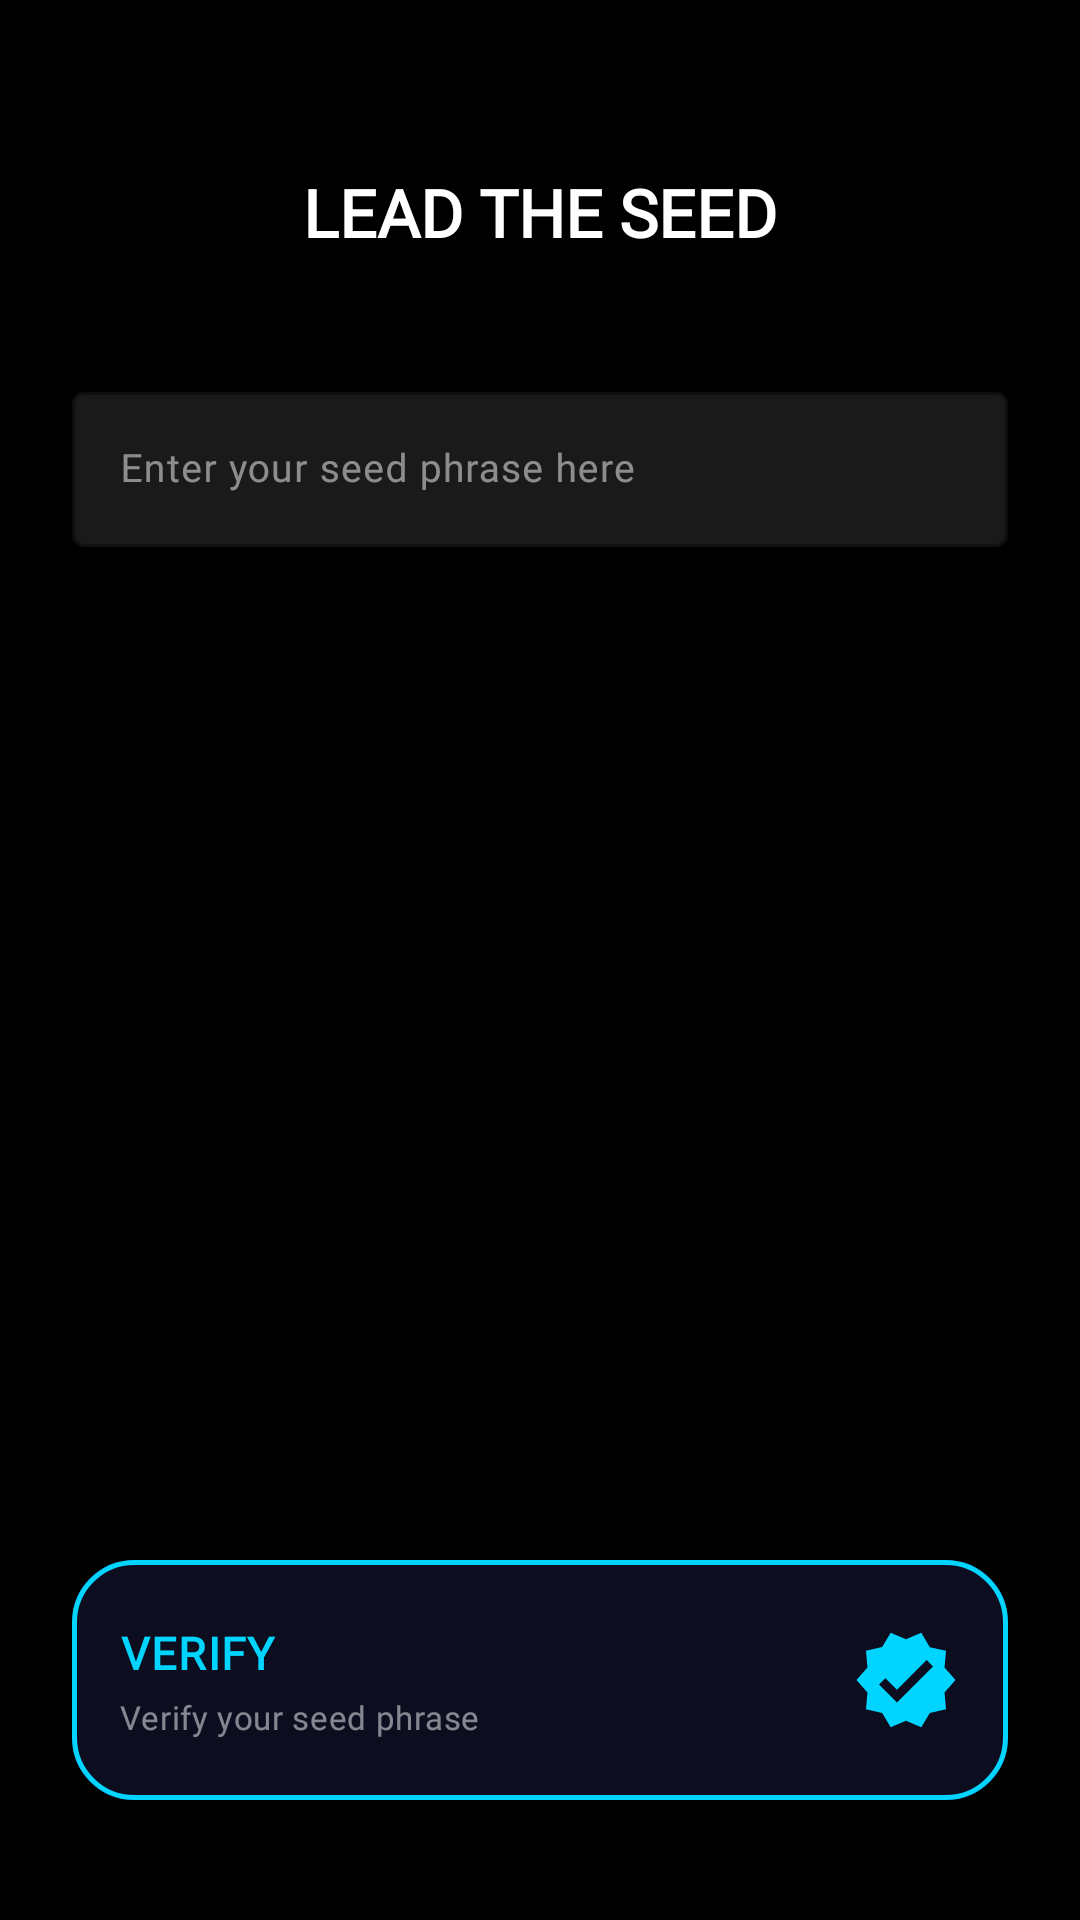

Where to tap for icons on this 1080x1920 app screen, as point (x, y):
verified: point (906, 1680)
